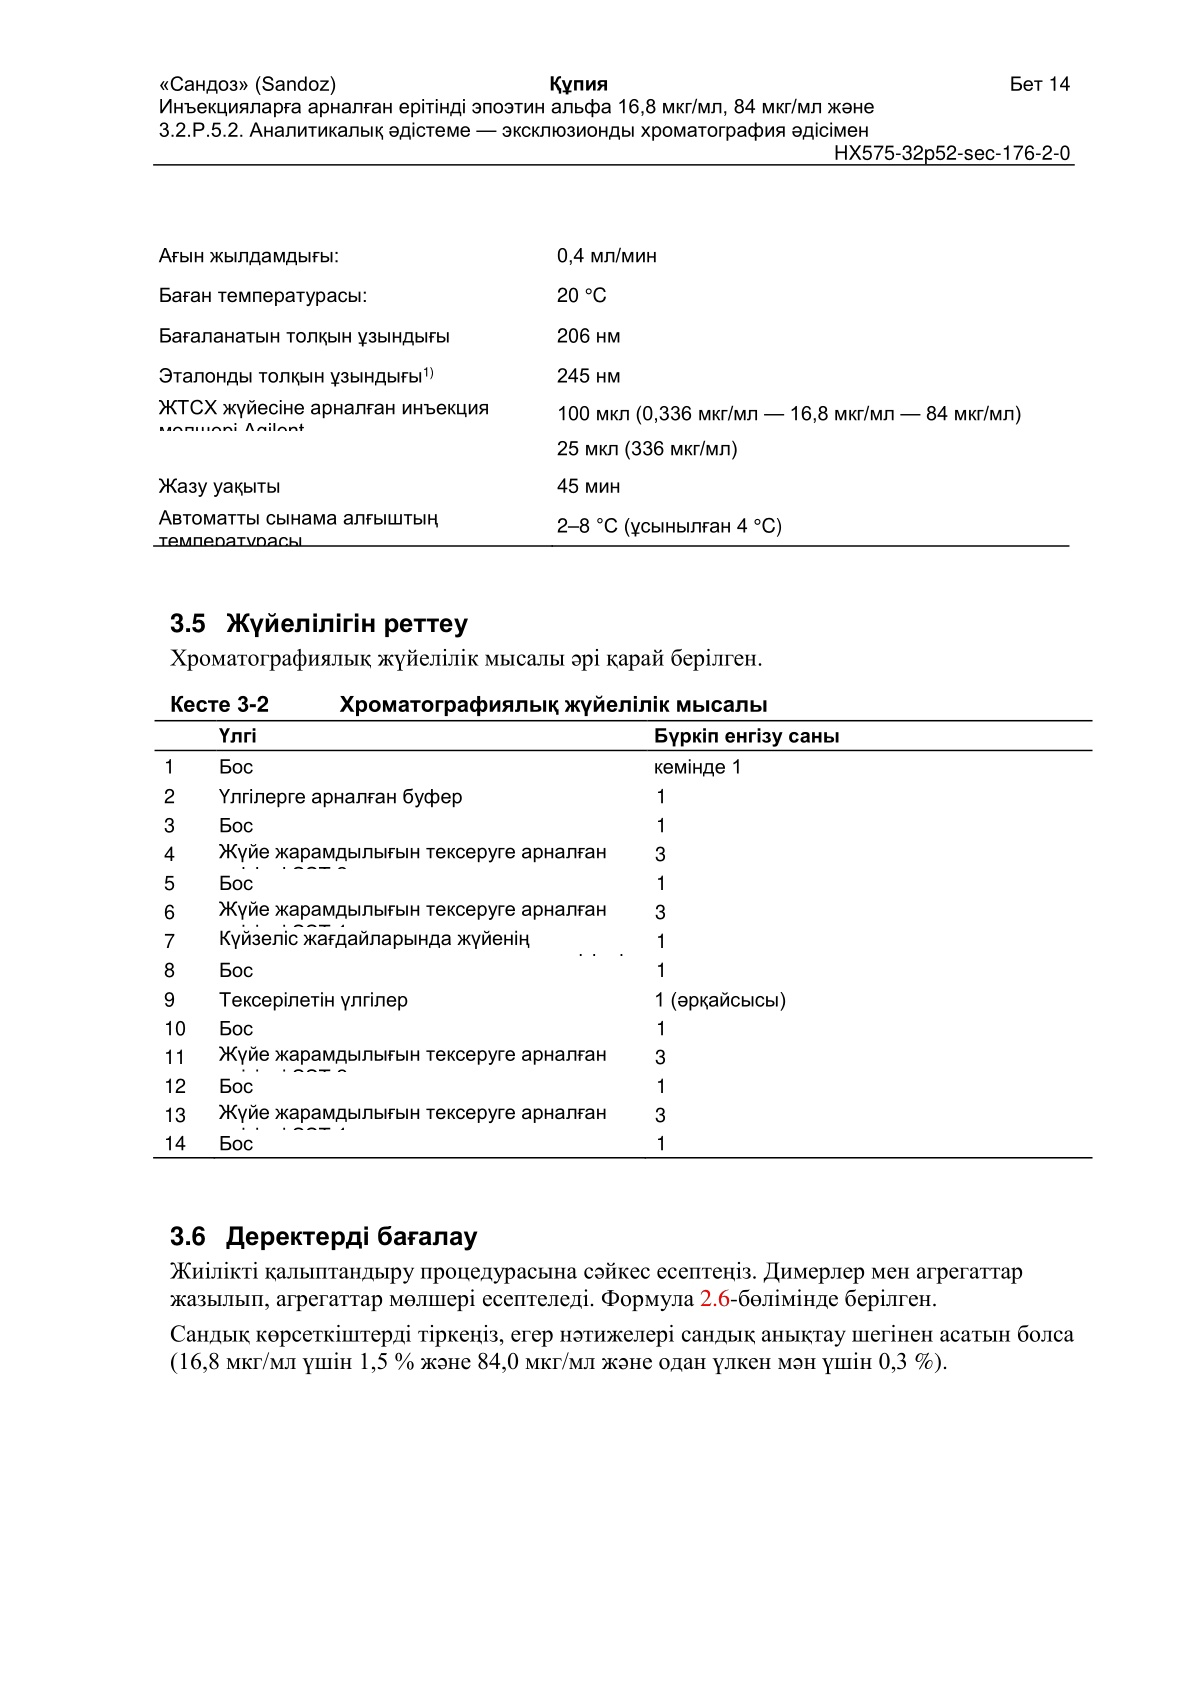partial_lined: (153, 719, 1094, 1160), (152, 164, 1075, 549)
